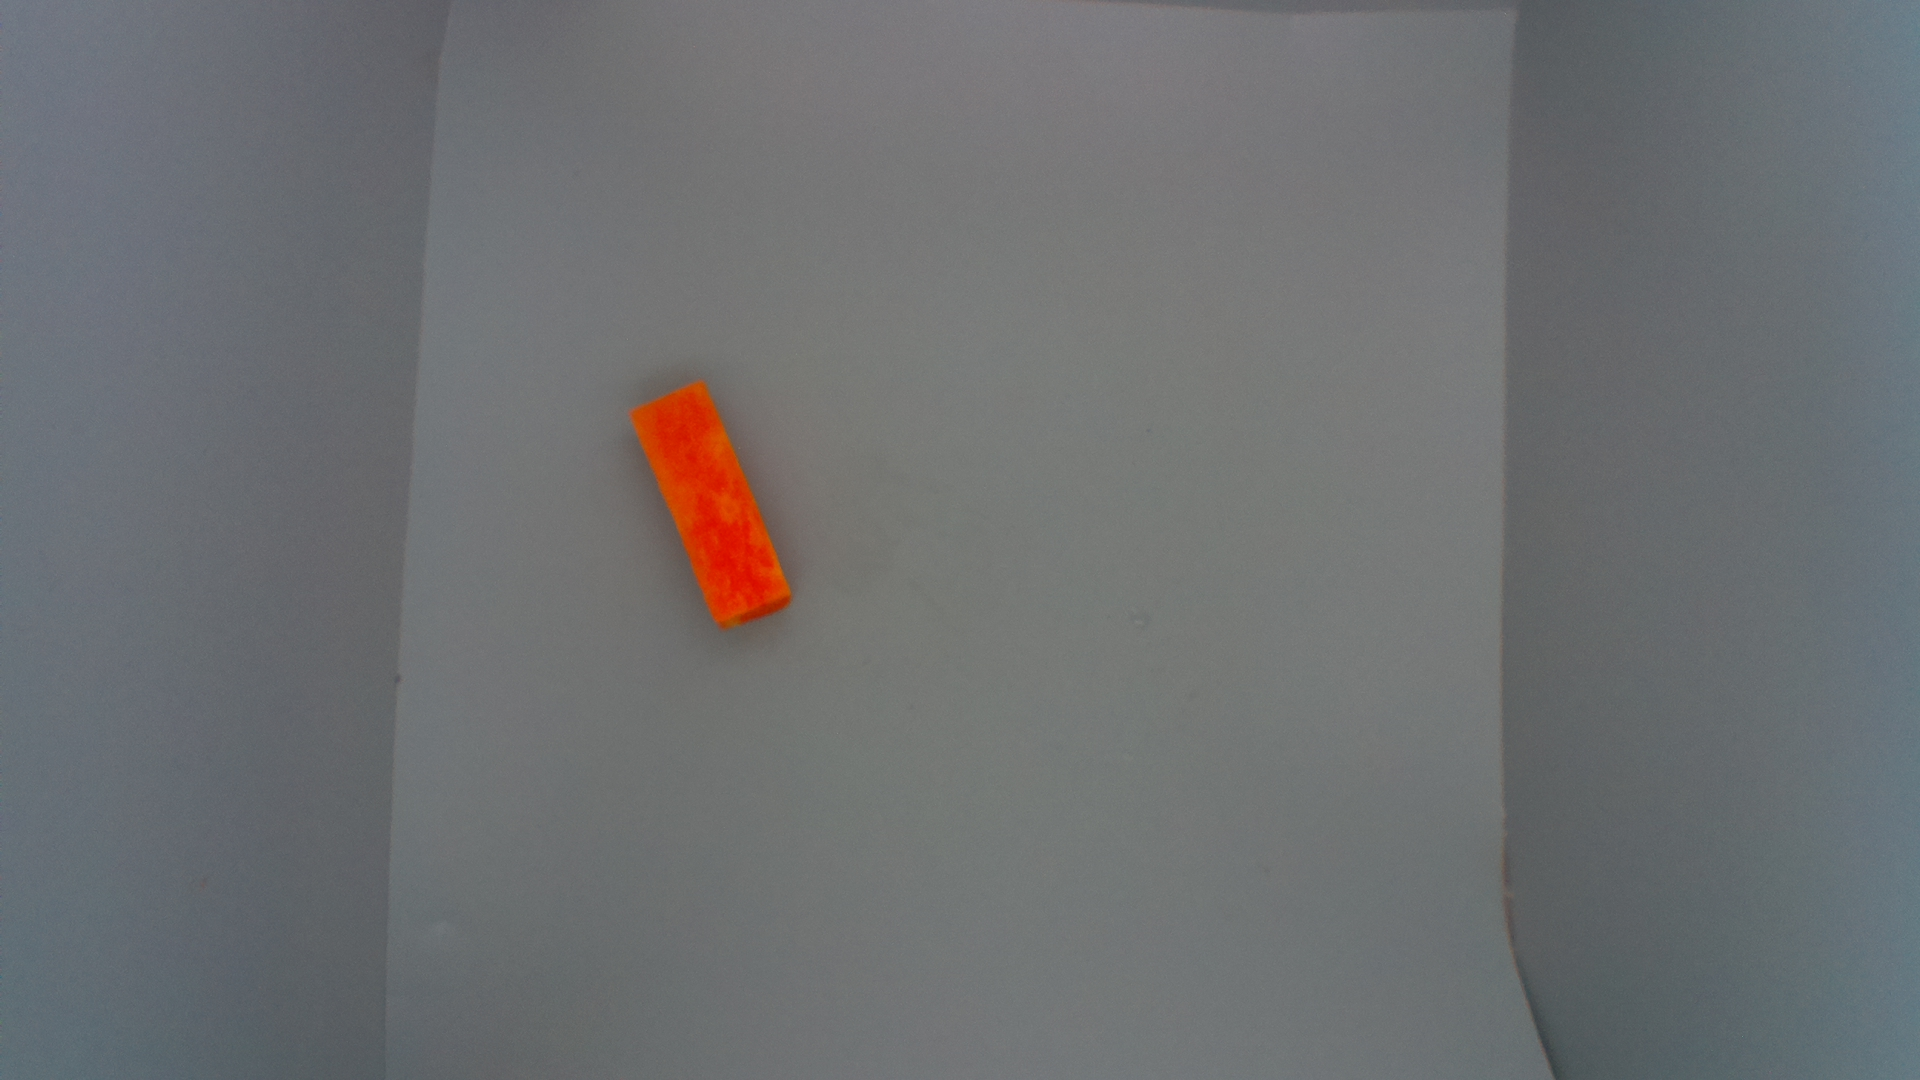carrot: (625, 378, 793, 632)
